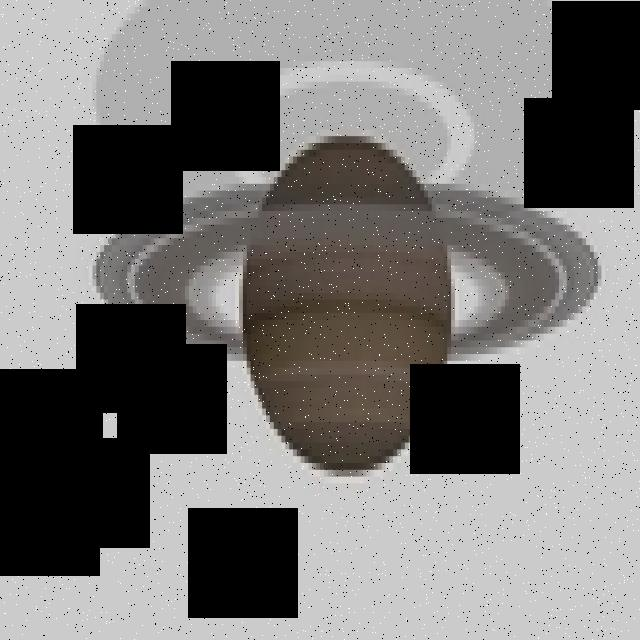Saturn: (90, 127, 606, 481)
